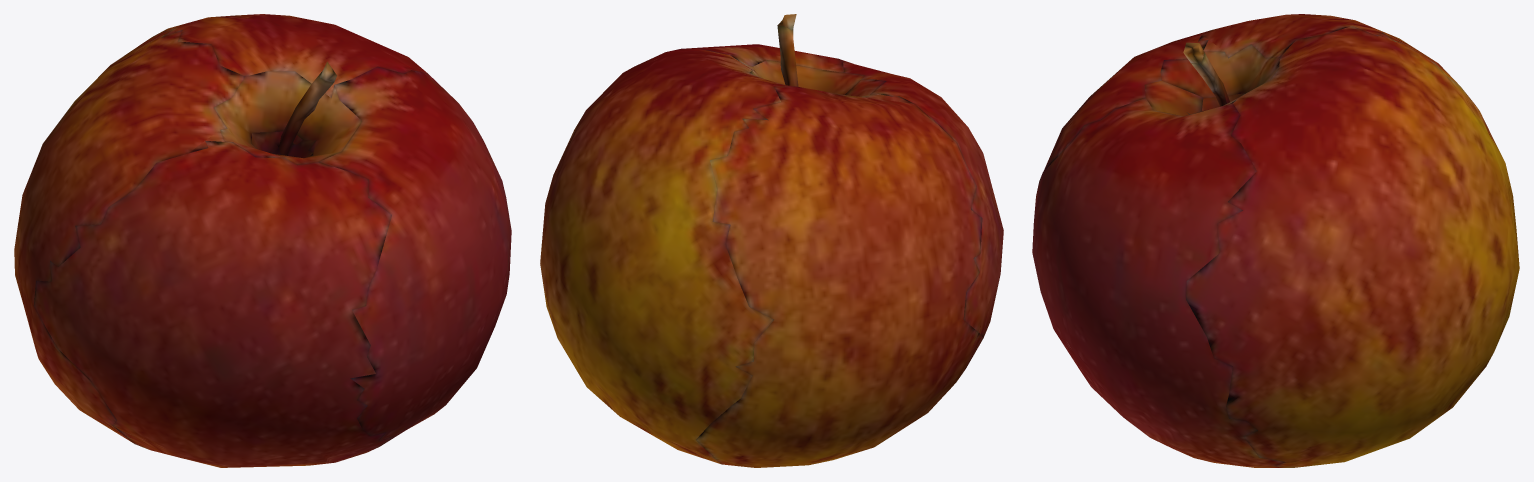
File: food_apple_01.glb
3 views of the same model, side by side, from view 1: azimuth 30°, elevation 25°; view 2: azimuth 150°, elevation 25°; view 3: azimuth 270°, elevation 25° (orthographic). The views are drawn at different scales.
Parts seen in each view (by area): view 1: food_apple_01; view 2: food_apple_01; view 3: food_apple_01.
Part boxes in pixels (x1,y1,x2,y2): food_apple_01: (14, 14, 511, 467); food_apple_01: (540, 14, 1003, 467); food_apple_01: (1032, 14, 1519, 467).
Bounding box in the file's own units: 0.0973 × 0.0854 × 0.0958.
1 material, 1 textured.
